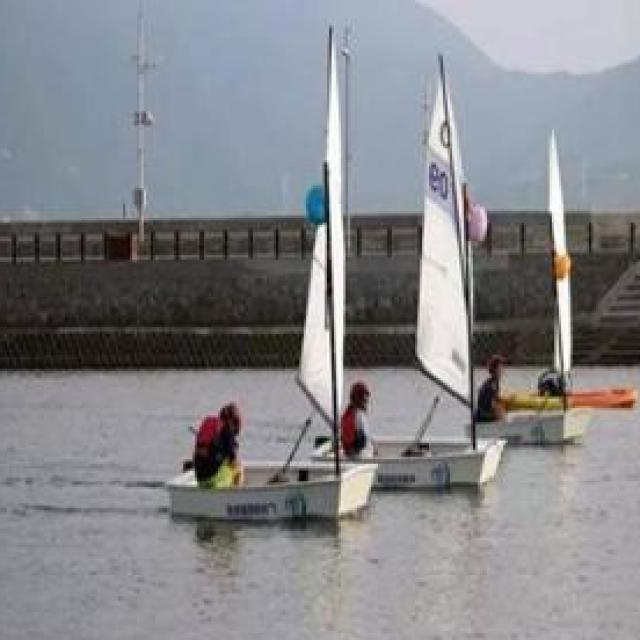sailboat: (165, 26, 368, 524), (321, 47, 504, 488), (479, 120, 593, 446)
